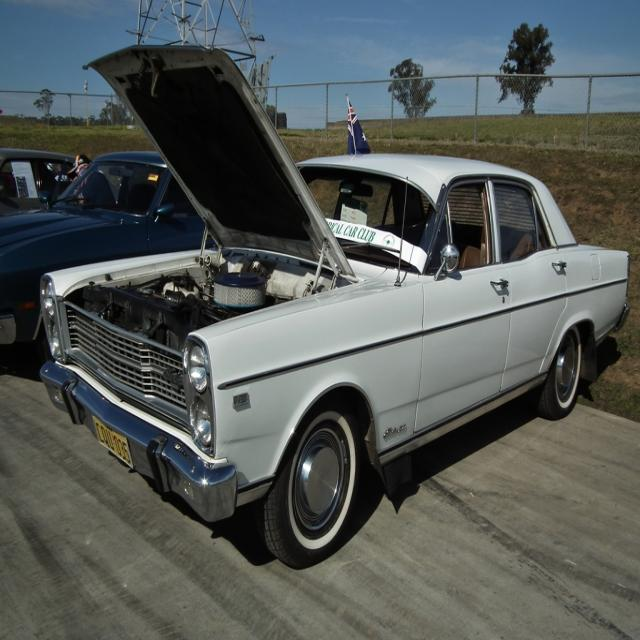car: (36, 43, 627, 570)
